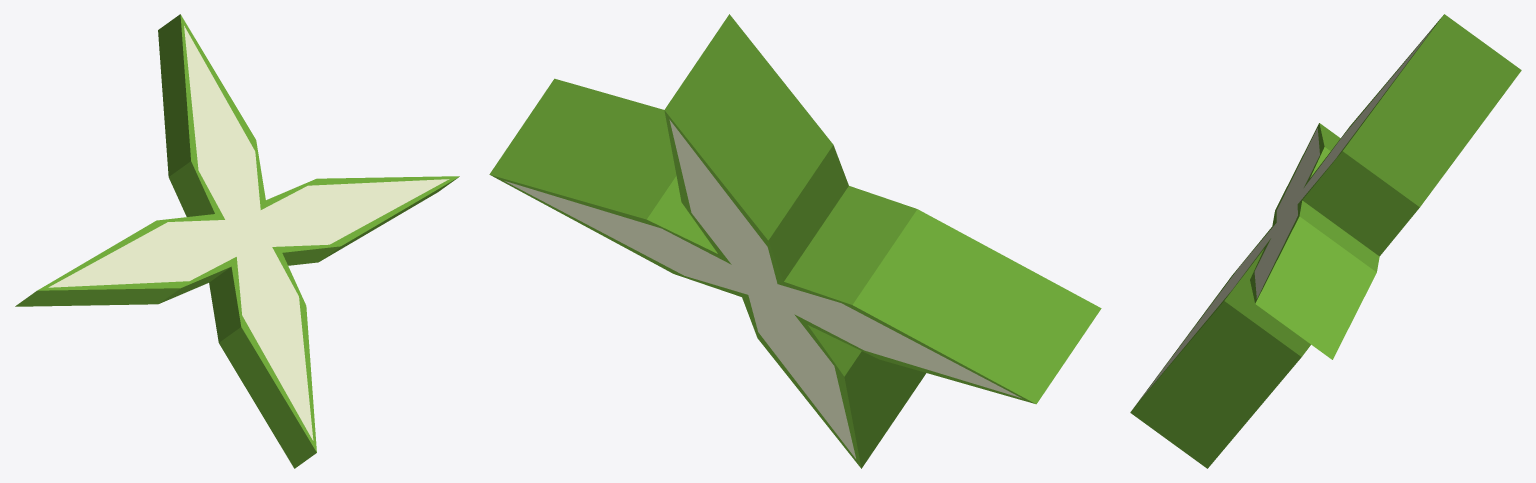
Rendered from bean-slice.glb.
3 views of the same model, side by side, from view 1: azimuth 30°, elevation 25°; view 2: azimuth 150°, elevation 25°; view 3: azimuth 270°, elevation 25° (orthographic). The views are drawn at different scales.
Visible parts, largest first — view 1: Slice_flesh, Slice; view 2: Slice, Slice_flesh; view 3: Slice, Slice_flesh.
Boxes of the visible parts, x1=… form: Slice_flesh: x1=48, y1=26, x2=449, y2=440; Slice: x1=15, y1=14, x2=459, y2=468; Slice: x1=489, y1=14, x2=1101, y2=468; Slice_flesh: x1=505, y1=119, x2=1021, y2=458; Slice: x1=1130, y1=14, x2=1521, y2=468; Slice_flesh: x1=1139, y1=26, x2=1434, y2=400.
Size of the model in its own units: 0.0455 by 0.0411 by 0.0325.
